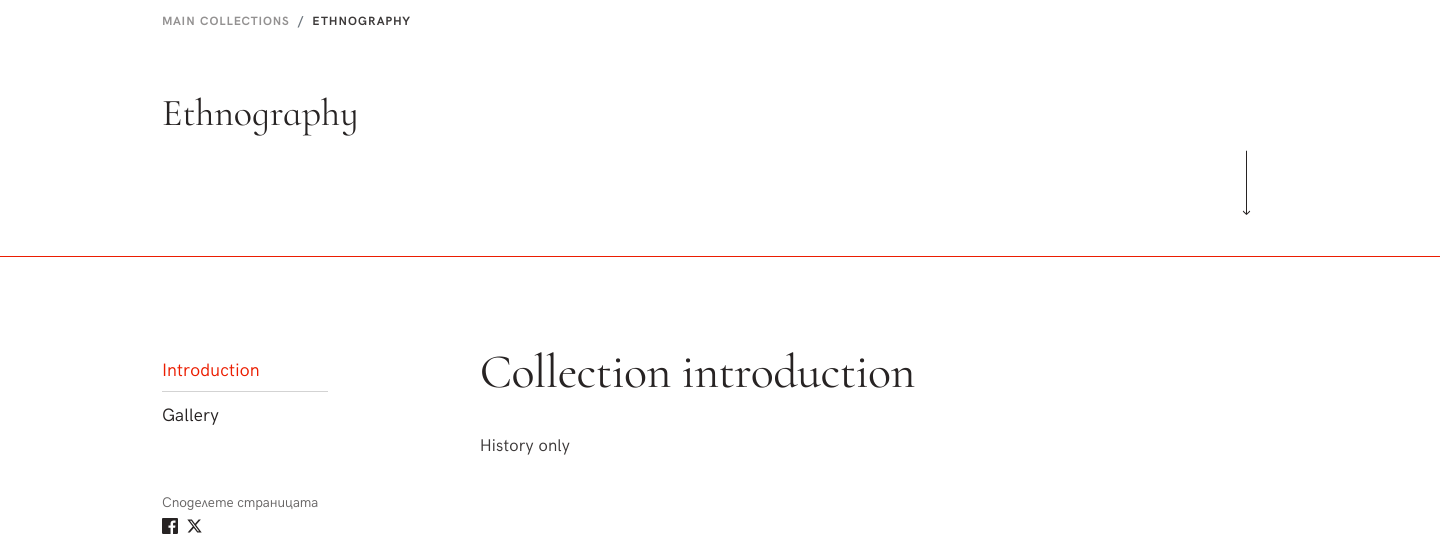
CollectionsIntroAndGallery › shows an empty gallery when only a description exists
The image size is (1440, 551).
(page scrolled)
Expected: the text "History only" is shown, [480,432,570,456]
Step 1. Click the tab "Gallery" → x=245, y=414, box [162,391,328,436]
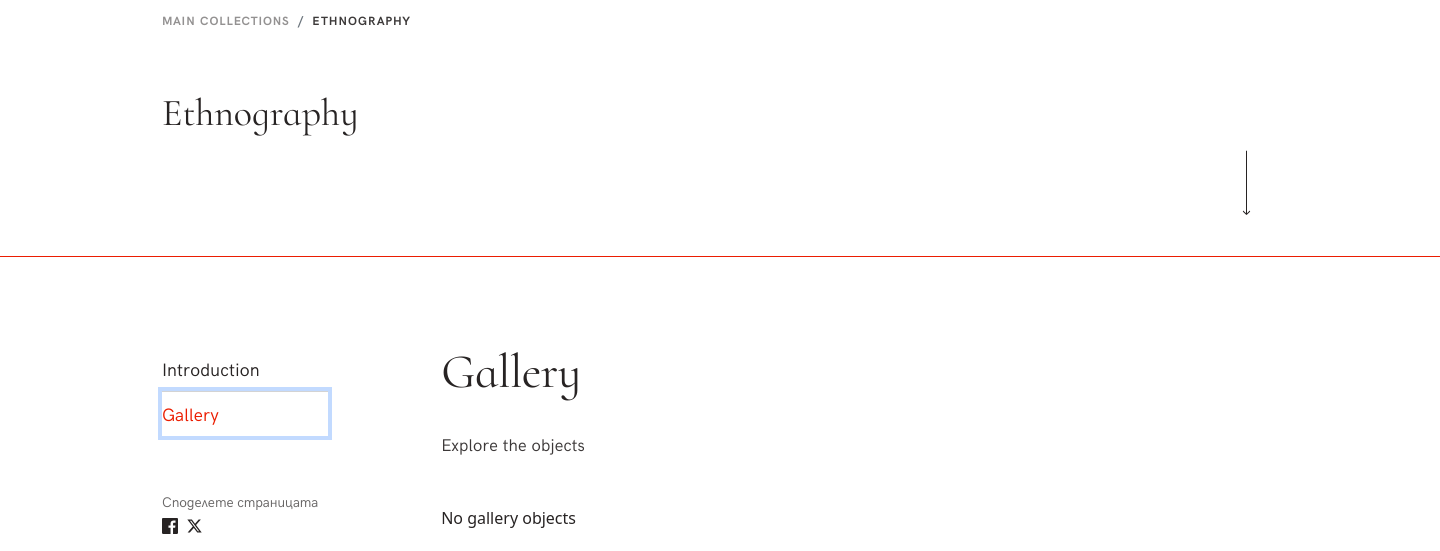
Result: the text "No gallery objects" is shown at [441,507,576,529]
